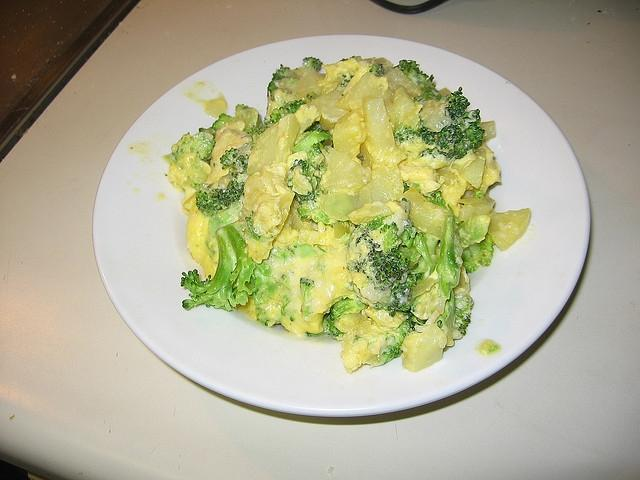broccoli: (252, 243, 354, 337), (181, 224, 271, 312), (346, 208, 420, 311), (266, 56, 326, 108), (436, 214, 461, 299), (393, 59, 442, 101), (436, 290, 471, 346), (286, 159, 328, 204), (327, 297, 366, 340), (170, 132, 216, 166), (461, 232, 496, 274), (208, 196, 243, 236), (292, 130, 333, 157), (445, 87, 471, 125), (198, 114, 238, 138), (270, 100, 307, 123), (297, 199, 330, 224), (300, 278, 315, 318), (415, 232, 432, 266), (248, 125, 270, 150), (382, 343, 403, 365), (401, 227, 414, 248), (368, 63, 386, 78), (398, 133, 404, 142)
